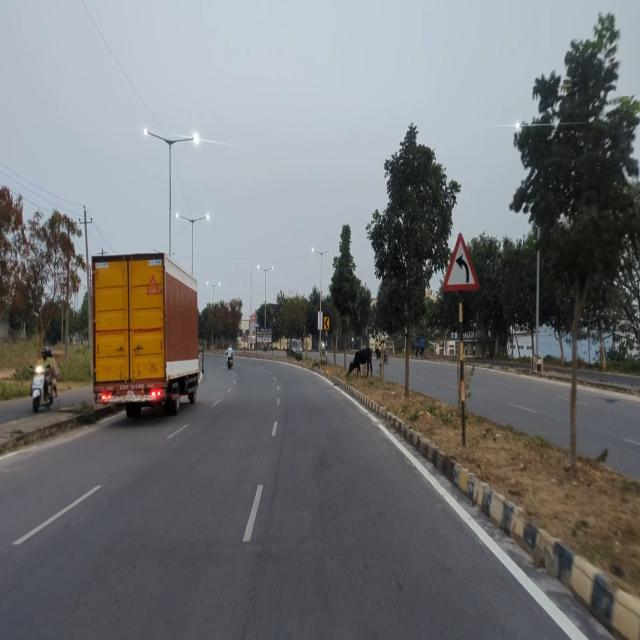bien_cam: (441, 231, 483, 294)
